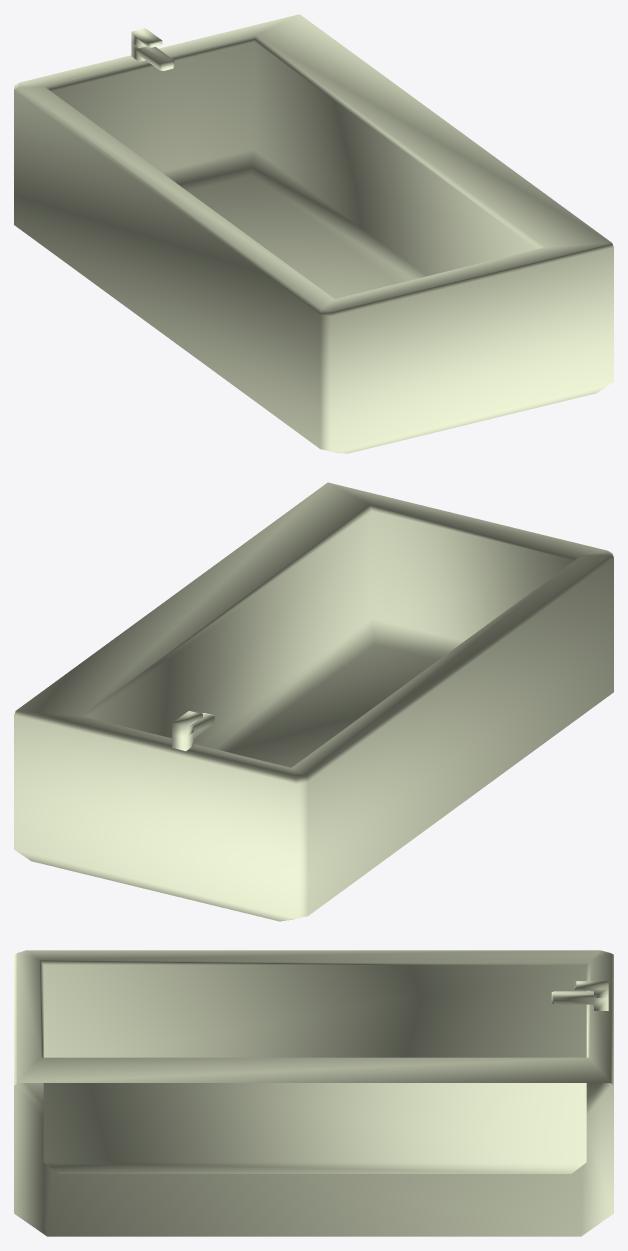
The model's file is hotl_bath.FBX.
3 views of the same model, one above another, from view 1: azimuth 30°, elevation 25°; view 2: azimuth 150°, elevation 25°; view 3: azimuth 270°, elevation 25° (orthographic). The views are drawn at different scales.
Visible parts, largest first — view 1: bath; view 2: bath; view 3: bath.
Part boxes in pixels (<box>): bath: <box>14,14,613,453</box>; bath: <box>14,482,613,921</box>; bath: <box>14,950,613,1236</box>.
Size of the model in its own units: 1.42 by 0.879 by 2.7.
